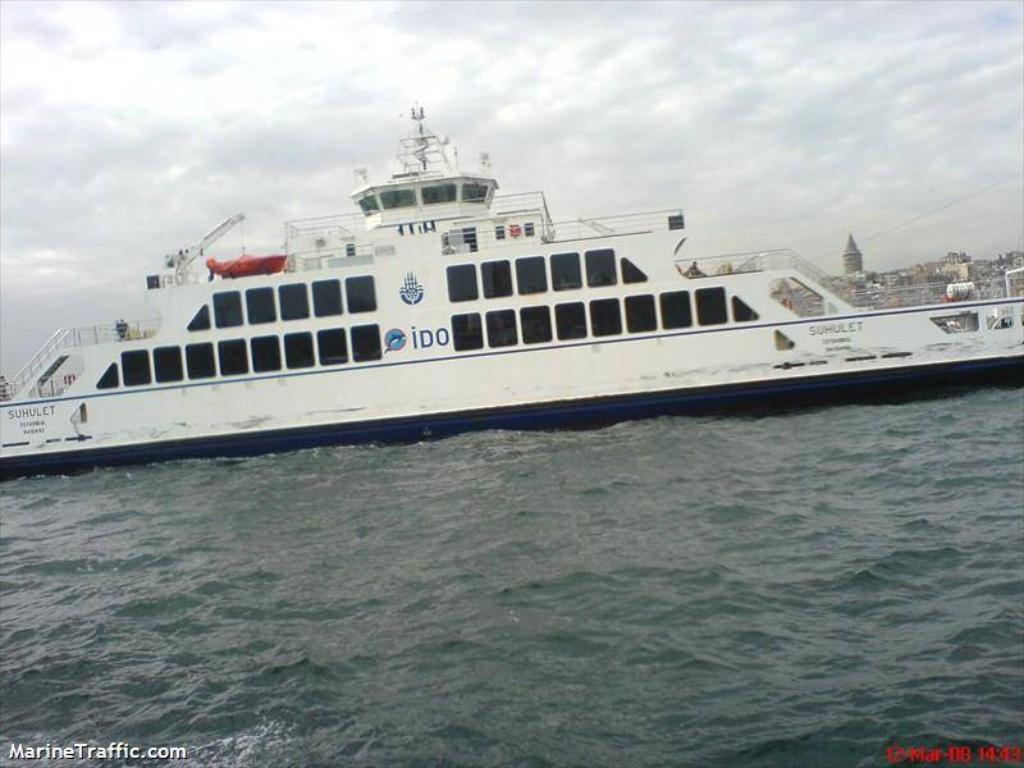PassengerShip: (0, 98, 1024, 486)
